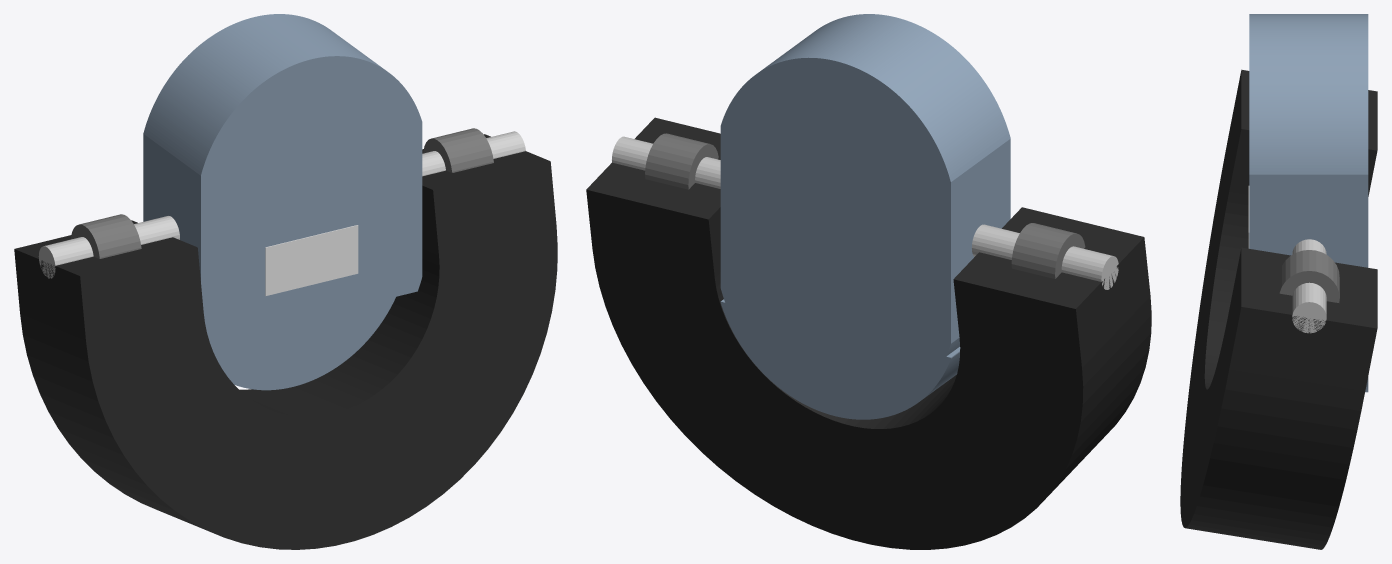
Rendered from PARKFNB_V2_RevF_3D_arch0.obj.
The picture shows the model from 3 angles, left to right: view 1: azimuth 30°, elevation 25°; view 2: azimuth 150°, elevation 25°; view 3: azimuth 270°, elevation 25°; orthographic projection. The views are drawn at different scales.
Visible parts, largest first — view 1: tyre, steel_box_main, steel_box_step, qr_plate, arch_bracket, shaft; view 2: tyre, steel_box_main, steel_box_step, arch_bracket, shaft; view 3: tyre, steel_box_main, arch_bracket, shaft.
Boxes of the visible parts, box(x1,y1,x2,y2) form: tyre: box(14, 134, 557, 549); steel_box_main: box(143, 14, 422, 341); steel_box_step: box(210, 297, 395, 390); qr_plate: box(265, 225, 358, 296); arch_bracket: box(71, 128, 493, 258); shaft: box(38, 131, 525, 278); tyre: box(586, 117, 1151, 549); steel_box_main: box(720, 14, 1010, 356); steel_box_step: box(720, 299, 960, 419); arch_bracket: box(645, 133, 1085, 278); shaft: box(612, 136, 1118, 289); tyre: box(1180, 69, 1377, 549); steel_box_main: box(1249, 14, 1368, 267); arch_bracket: box(1279, 250, 1339, 302); shaft: box(1292, 239, 1326, 333).
Bounding box in the file's own units: 406 × 396 × 143.
